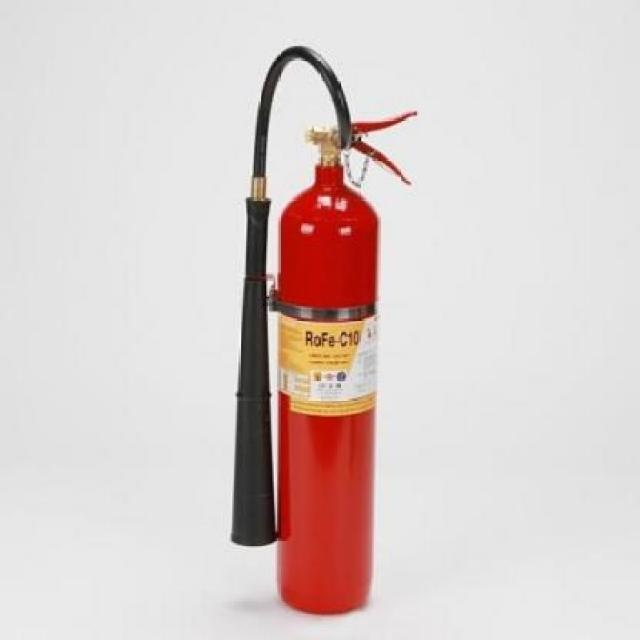fire extinguisher: (231, 45, 418, 618)
